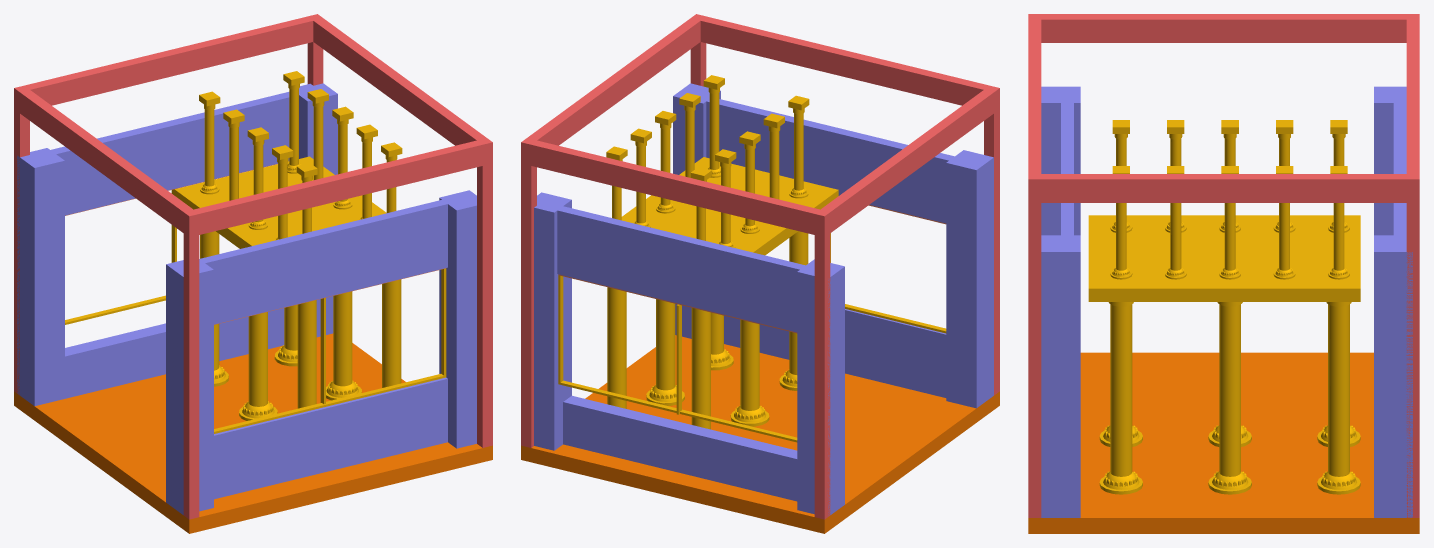
3 renders of one model, left to right at view 1: azimuth 30°, elevation 25°; view 2: azimuth 150°, elevation 25°; view 3: azimuth 270°, elevation 25°, orthographic. The views are drawn at different scales.
Visible parts, largest first — view 1: 物件_414, 物件_408, 物件_407, 物件_396, 物件_399, 物件_405, 物件_421, 物件_406, 物件_420, 物件_398, 物件_419, 物件_417 (+20 smaller); view 2: 物件_414, 物件_399, 物件_398, 物件_405, 物件_408, 物件_396, 物件_407, 物件_420, 物件_397, 物件_421, 物件_395, 物件_419 (+19 smaller); view 3: 物件_414, 物件_395, 物件_406, 物件_397, 物件_422, 物件_419, 物件_415, 物件_416, 物件_143, 物件_26, 物件_74, 物件_405 (+10 smaller).
Part boxes in pixels (x1,y1,x2,y2): 物件_414: [14, 333, 492, 533]; 物件_408: [199, 200, 447, 324]; 物件_407: [214, 377, 447, 499]; 物件_396: [17, 148, 64, 406]; 物件_399: [51, 92, 289, 215]; 物件_405: [166, 259, 213, 514]; 物件_421: [184, 138, 492, 235]; 物件_406: [439, 190, 476, 448]; 物件_420: [14, 14, 322, 105]; 物件_398: [65, 308, 284, 398]; 物件_419: [14, 89, 199, 235]; 物件_417: [183, 209, 199, 519]; 物件_414: [521, 335, 999, 533]; 物件_399: [557, 206, 805, 332]; 物件_398: [563, 395, 797, 501]; 物件_405: [946, 150, 993, 408]; 物件_408: [706, 99, 954, 223]; 物件_396: [797, 259, 844, 515]; 物件_407: [724, 309, 946, 397]; 物件_420: [521, 138, 830, 234]; 物件_397: [534, 192, 571, 450]; 物件_421: [692, 14, 997, 105]; 物件_395: [621, 157, 838, 255]; 物件_419: [814, 85, 999, 236]; 物件_414: [1028, 352, 1419, 533]; 物件_395: [1088, 215, 1360, 301]; 物件_406: [1041, 235, 1080, 517]; 物件_397: [1374, 235, 1412, 517]; 物件_422: [1029, 174, 1419, 202]; 物件_419: [1028, 14, 1419, 42]; 物件_415: [1028, 174, 1041, 517]; 物件_416: [1406, 174, 1419, 517]; 物件_143: [1110, 304, 1132, 476]; 物件_26: [1328, 304, 1349, 476]; 物件_74: [1219, 304, 1240, 476]; 物件_405: [1041, 86, 1080, 235].
Size of the model in its own units: 48 by 48 by 48.
